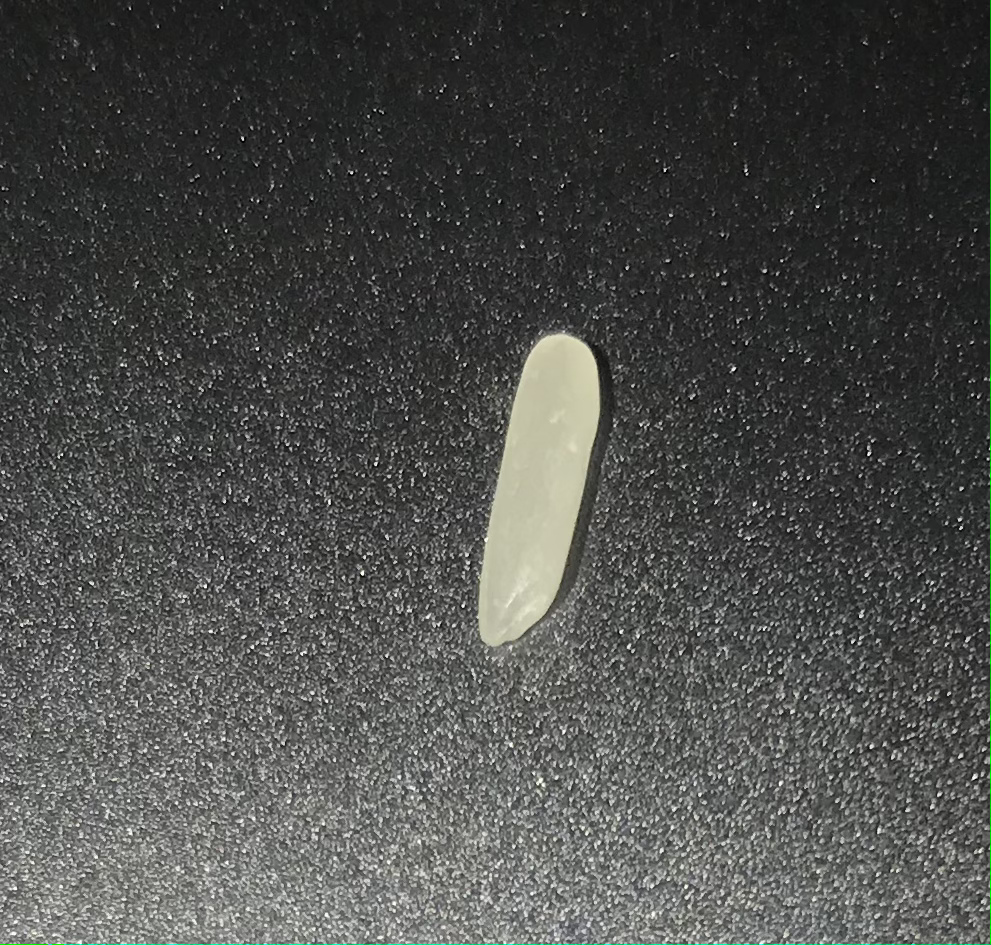Gao Thom My: (466, 322, 623, 665)
